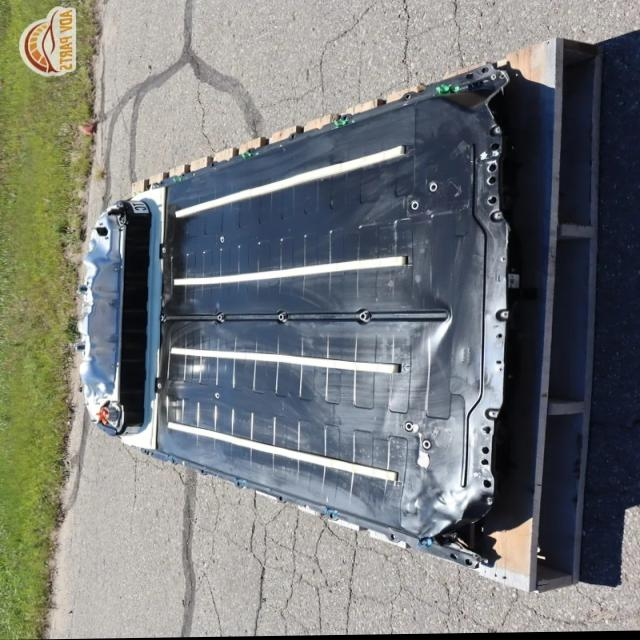Nut: (472, 422, 496, 444), (351, 309, 384, 324), (215, 313, 230, 325), (155, 311, 167, 326), (274, 312, 288, 324)
Screw: (419, 181, 449, 195), (416, 437, 440, 453), (397, 418, 418, 436), (157, 247, 176, 264), (398, 202, 423, 214), (212, 232, 232, 247), (148, 380, 168, 394), (207, 390, 222, 404)
